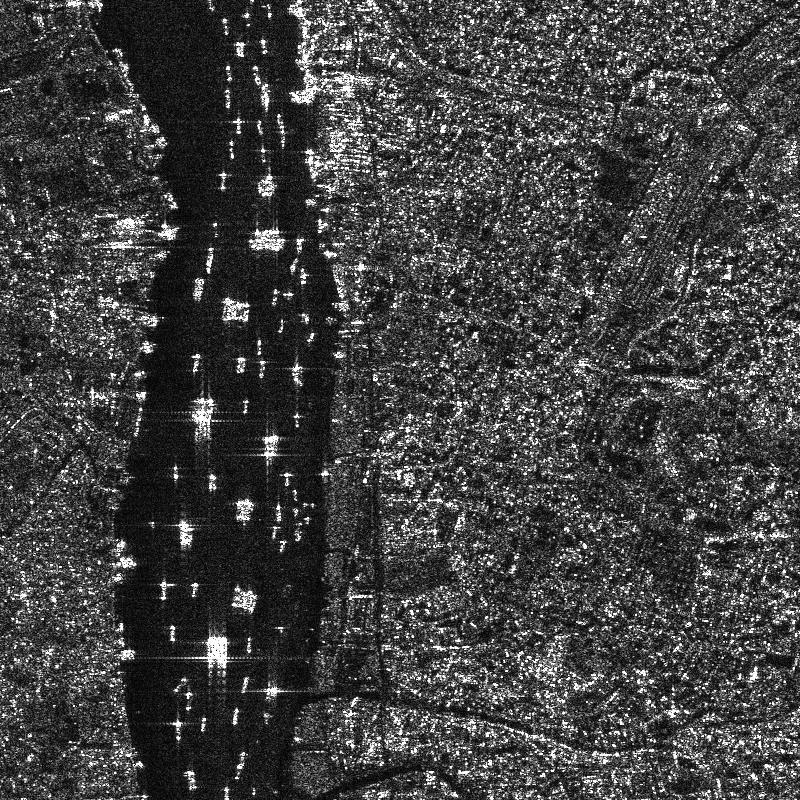ship: (192, 397, 214, 441), (332, 264, 348, 299), (305, 148, 320, 181), (119, 62, 134, 91), (178, 520, 193, 547), (263, 434, 279, 458), (295, 41, 308, 70), (236, 498, 252, 521), (206, 636, 216, 669), (142, 115, 159, 134), (217, 636, 227, 668), (191, 278, 204, 302), (133, 406, 143, 437), (304, 72, 316, 97), (221, 297, 232, 321), (260, 82, 269, 111), (164, 191, 177, 210), (292, 364, 303, 386), (185, 770, 196, 791), (173, 676, 186, 693), (206, 247, 214, 274), (173, 719, 182, 741), (235, 356, 246, 374), (190, 353, 200, 372), (252, 65, 261, 85), (236, 751, 246, 769), (271, 287, 280, 306), (159, 580, 167, 601), (241, 675, 250, 693), (257, 360, 266, 378), (289, 257, 299, 273), (302, 19, 310, 39), (266, 174, 273, 196), (296, 237, 305, 254), (236, 41, 245, 57), (208, 473, 216, 491), (234, 302, 242, 320), (185, 691, 192, 711), (242, 302, 249, 322), (224, 89, 231, 109), (220, 172, 227, 192), (290, 96, 309, 103), (296, 0, 303, 19), (232, 707, 239, 725), (280, 121, 285, 146), (191, 582, 199, 597), (225, 64, 232, 81), (258, 179, 265, 196), (242, 398, 249, 414), (279, 539, 287, 553), (256, 119, 263, 135), (283, 472, 291, 486), (223, 17, 229, 35), (301, 312, 310, 324), (277, 318, 284, 333), (235, 117, 241, 134), (256, 338, 262, 355), (169, 625, 175, 642), (300, 267, 306, 284), (306, 332, 315, 343), (271, 525, 278, 539), (260, 38, 266, 54), (262, 712, 270, 724), (200, 716, 206, 732), (229, 140, 234, 159), (276, 504, 281, 522), (207, 0, 215, 11), (246, 636, 251, 653), (294, 412, 299, 428), (260, 147, 265, 163), (173, 464, 178, 480), (289, 90, 305, 95), (292, 489, 298, 502), (223, 786, 229, 799), (271, 686, 278, 697), (229, 305, 234, 320), (282, 291, 295, 296), (265, 687, 270, 700), (251, 787, 256, 795)
